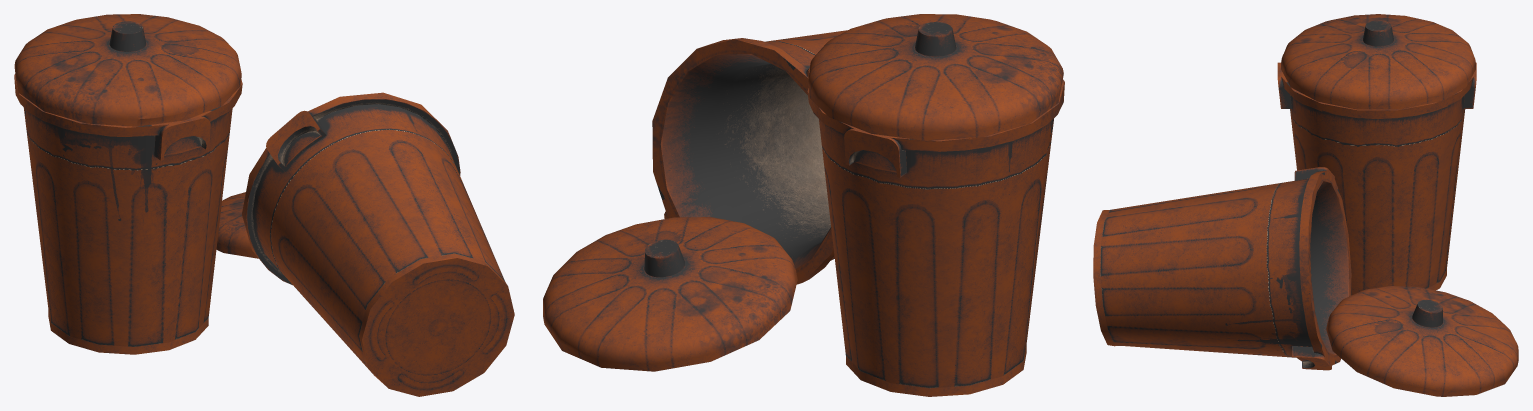
Rendered from bin.fbx.
3 renders of one model, left to right at view 1: azimuth 30°, elevation 25°; view 2: azimuth 150°, elevation 25°; view 3: azimuth 270°, elevation 25°, orthographic. The views are drawn at different scales.
Visible parts, largest first — view 1: bin_low.001, bin_low, lid_low, lid_low.001; view 2: bin_low, bin_low.001, lid_low.001, lid_low; view 3: bin_low.001, bin_low, lid_low.001, lid_low.
Boxes of the visible parts, bbox=[...] form: bin_low.001: bbox=[242, 92, 514, 396]; bin_low: bbox=[14, 74, 242, 354]; lid_low: bbox=[14, 14, 241, 126]; lid_low.001: bbox=[216, 192, 258, 258]; bin_low: bbox=[807, 79, 1064, 396]; bin_low.001: bbox=[652, 30, 847, 284]; lid_low.001: bbox=[543, 217, 797, 371]; lid_low: bbox=[808, 14, 1063, 140]; bin_low.001: bbox=[1093, 167, 1351, 370]; bin_low: bbox=[1277, 62, 1476, 295]; lid_low.001: bbox=[1326, 286, 1518, 396]; lid_low: bbox=[1281, 14, 1475, 109].
Bounding box in the file's own units: 206 × 142 × 219.
1 material, 1 textured.
